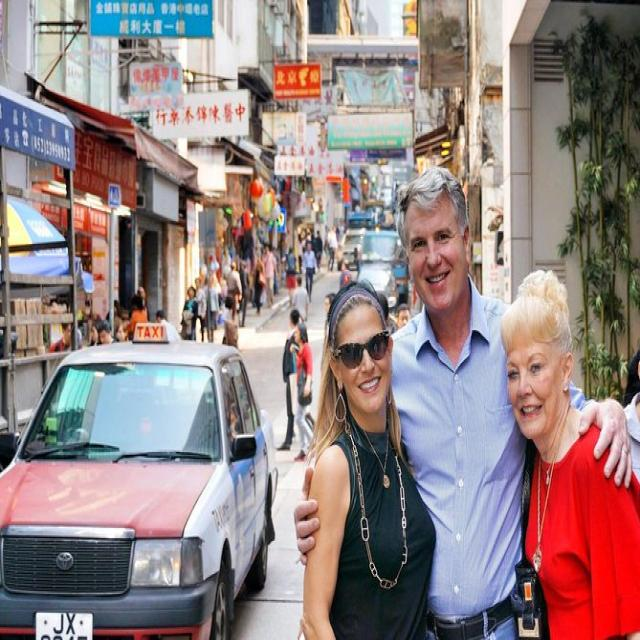car: (0, 324, 295, 627)
